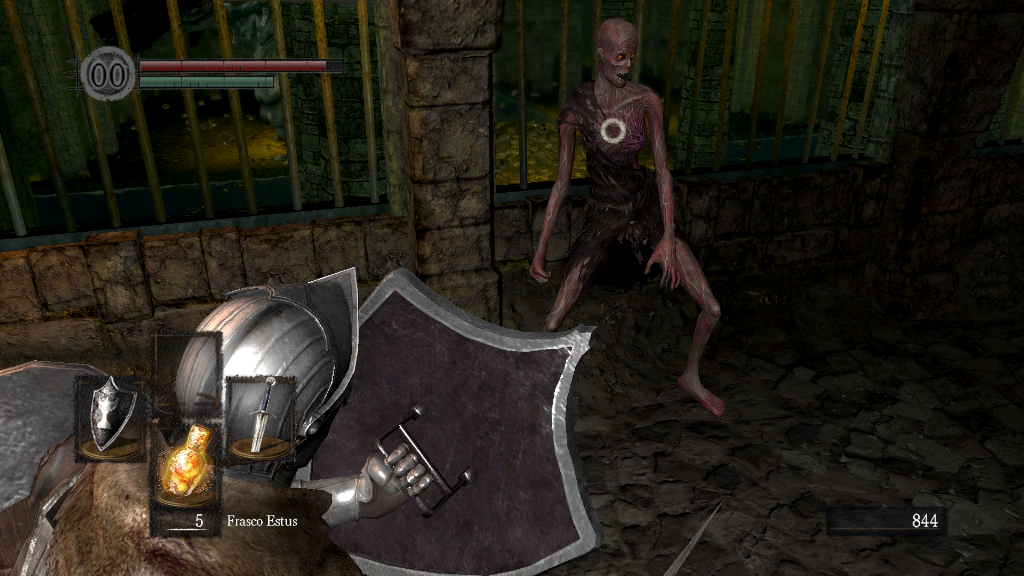health: (138, 58, 343, 71)
hollow: (530, 16, 725, 419)
humanity: (80, 45, 136, 102)
player: (1, 265, 725, 576)
souls: (825, 506, 945, 536)
stamina: (138, 74, 274, 88)
